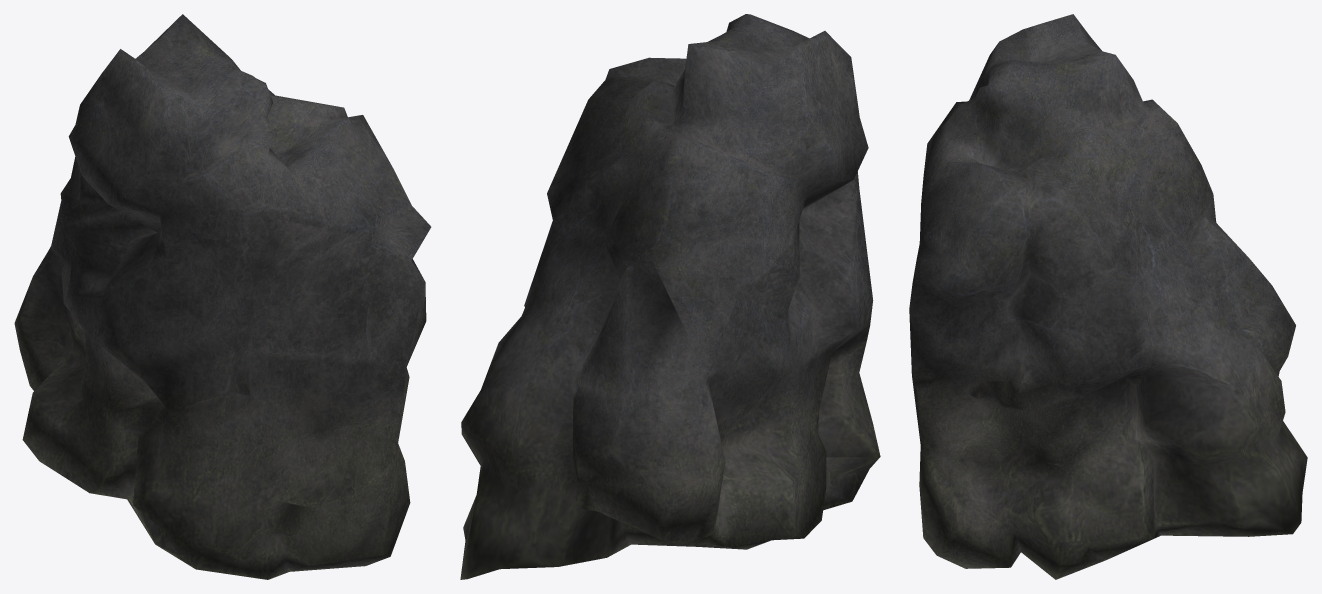
The model's file is mossy_stone.glb.
3 renders of one model, left to right at view 1: azimuth 30°, elevation 25°; view 2: azimuth 150°, elevation 25°; view 3: azimuth 270°, elevation 25°, orthographic. The views are drawn at different scales.
Parts seen in each view (by area): view 1: rock_low; view 2: rock_low; view 3: rock_low.
Boxes of the visible parts, <box> form: rock_low: <box>14,14,431,579</box>; rock_low: <box>460,14,880,579</box>; rock_low: <box>909,14,1307,579</box>.
Size of the model in its own units: 1.18 by 2 by 1.53.
1 material, 1 textured.
